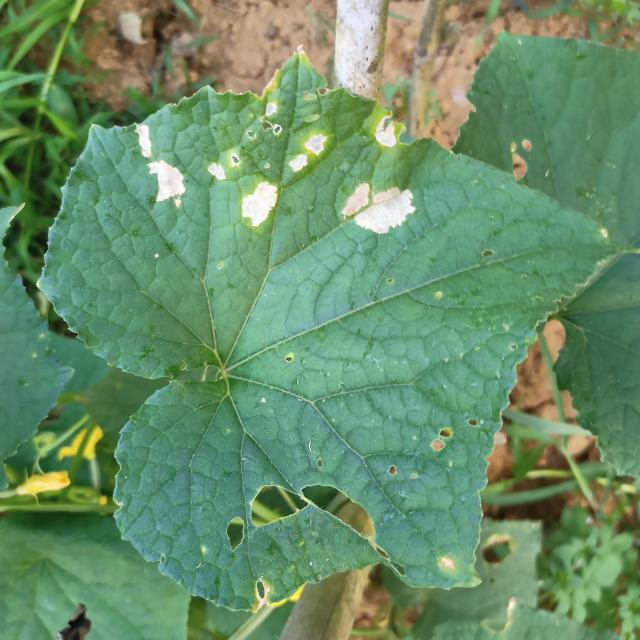disease_cucumber: (202, 98, 331, 230), (127, 122, 191, 212), (338, 177, 422, 240), (365, 108, 406, 153)
